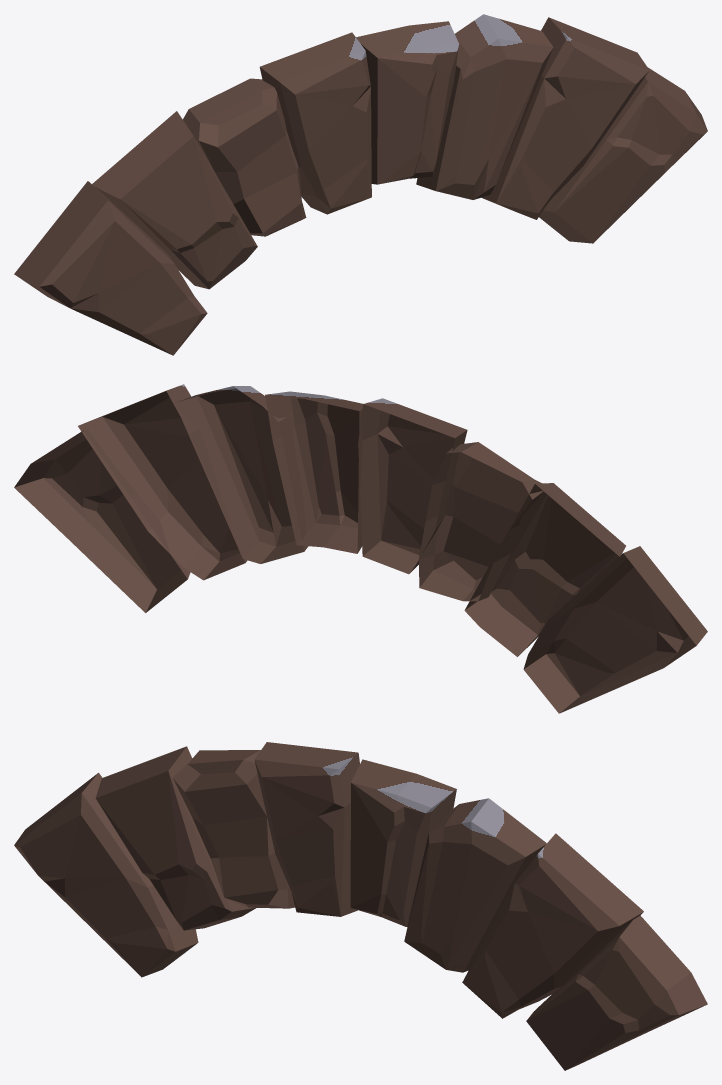
File: Arch.fbx
3 renders of one model, top to bottom at view 1: azimuth 30°, elevation 25°; view 2: azimuth 150°, elevation 25°; view 3: azimuth 330°, elevation 25°, orthographic.
Visible parts, largest first — view 1: Arch; view 2: Arch; view 3: Arch.
Boxes of the visible parts, x1=… form: Arch: x1=14, y1=14, x2=707, y2=355; Arch: x1=14, y1=384, x2=707, y2=713; Arch: x1=14, y1=742, x2=707, y2=1070.
Bounding box in the file's own units: 51.15 × 18.86 × 3.17.
1 material, 1 textured.
